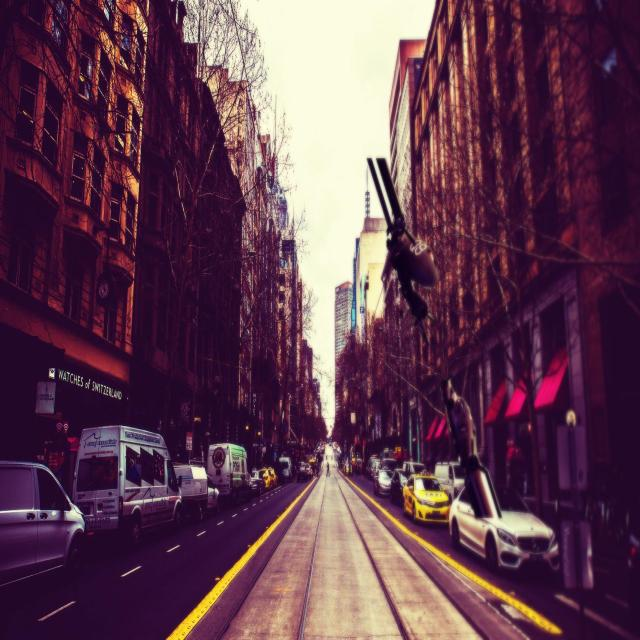airplane: (366, 157, 434, 346), (443, 378, 501, 517)
